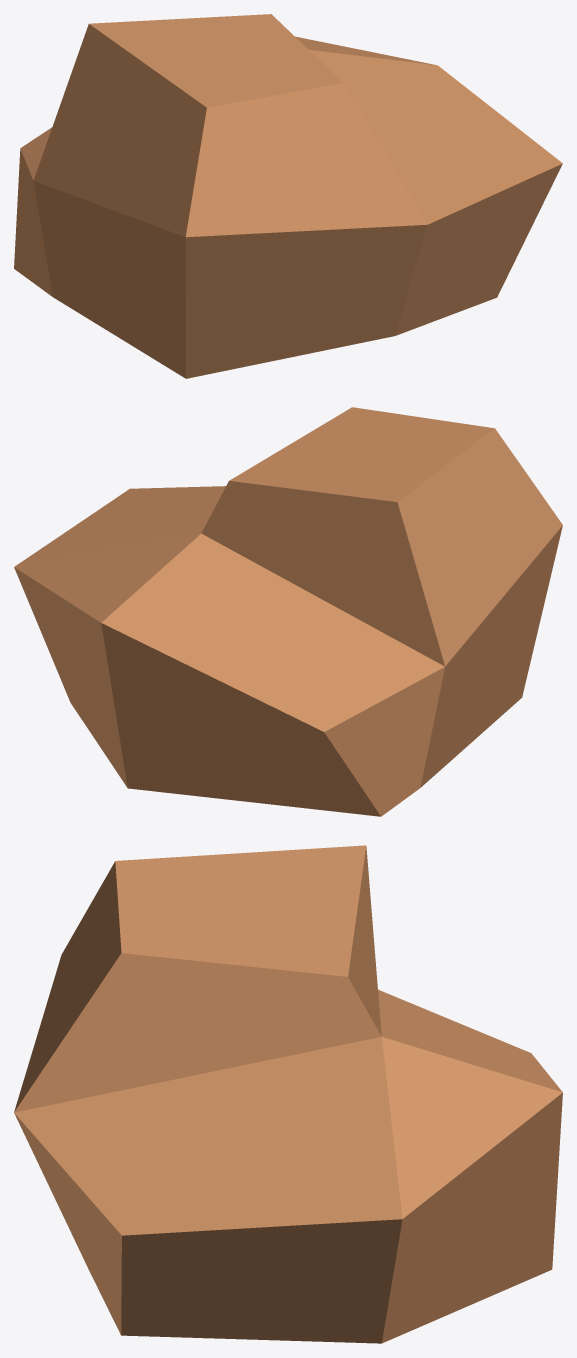
The model's file is dessert_rock_1.fbx.
3 renders of one model, top to bottom at view 1: azimuth 30°, elevation 25°; view 2: azimuth 150°, elevation 25°; view 3: azimuth 270°, elevation 25°, orthographic. The views are drawn at different scales.
Visible parts, largest first — view 1: Cube; view 2: Cube; view 3: Cube.
Part boxes in pixels (left/top/right/bottom): Cube: left=14, top=14, right=562, bottom=378; Cube: left=14, top=407, right=562, bottom=816; Cube: left=14, top=845, right=562, bottom=1343.
Size of the model in its own units: 220 by 136 by 213.
